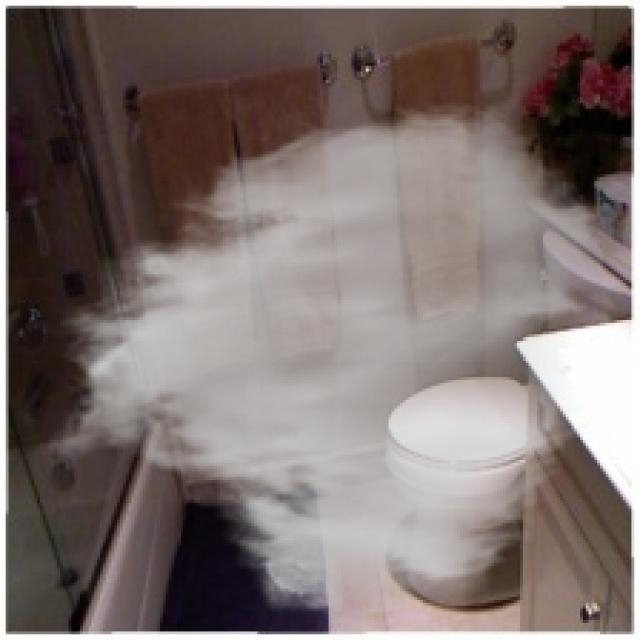smoke: (46, 100, 608, 620)
